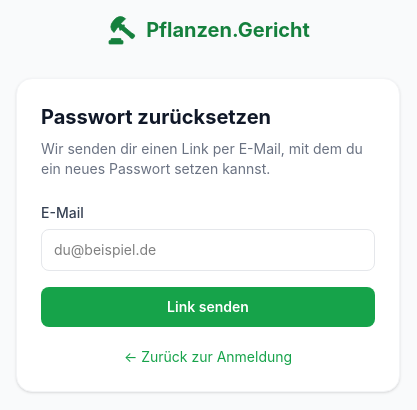
PasswordForgotView › when requesting a reset link › sends the email and confirms it
In the field with id "email": (208, 250) [41,229,375,271], type "a@b.de"
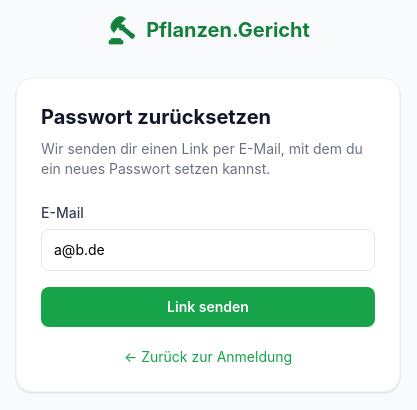
Submit the form, box [41,203,375,327]
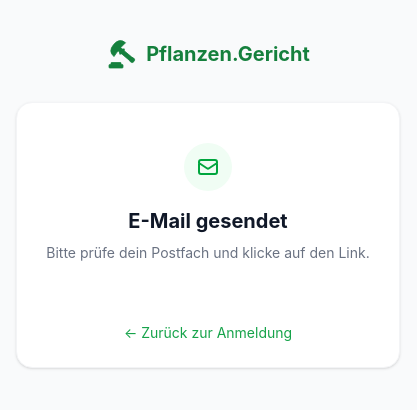
Expected: the text "E-Mail gesendet" is shown, [128,209,288,233]
